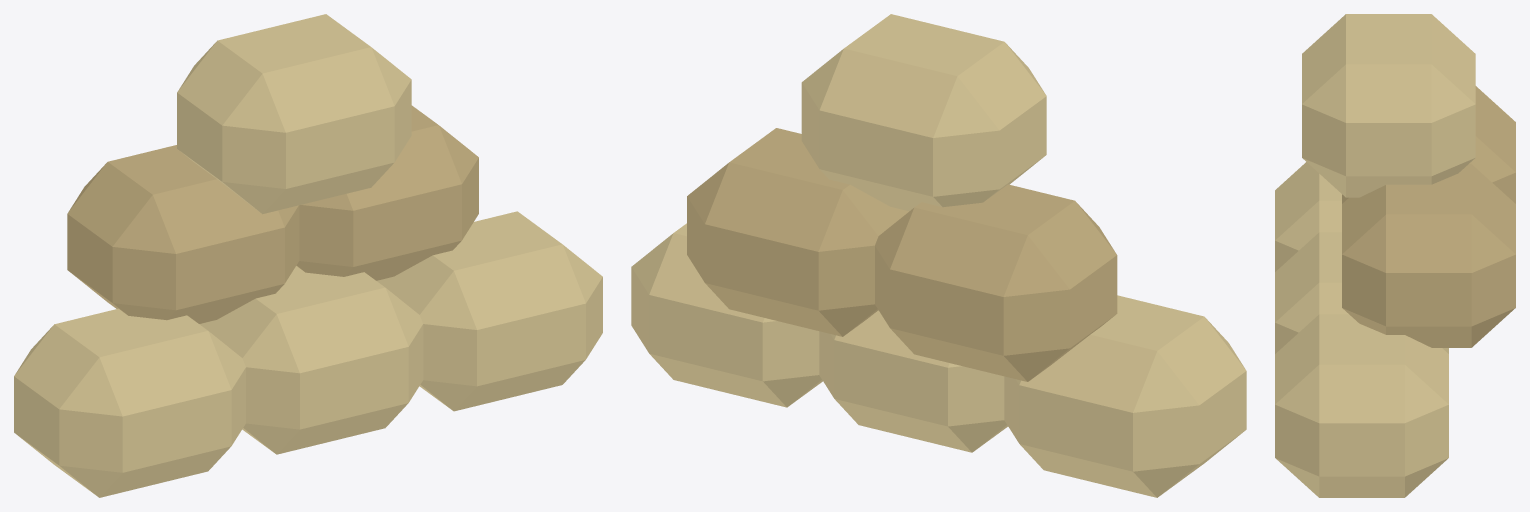
The model's file is sandBags.glb.
The picture shows the model from 3 angles, left to right: view 1: azimuth 30°, elevation 25°; view 2: azimuth 150°, elevation 25°; view 3: azimuth 270°, elevation 25°; orthographic projection. The views are drawn at different scales.
Parts seen in each view (by area): view 1: Sandbags; view 2: Sandbags; view 3: Sandbags.
Boxes of the visible parts, x1,y1,x2,y2 form: Sandbags: (14, 14, 602, 497); Sandbags: (631, 14, 1246, 497); Sandbags: (1275, 14, 1515, 497).
Bounding box in the file's own units: 1.78 × 1.16 × 0.72.
Materials: 1 (1 with a texture image).
